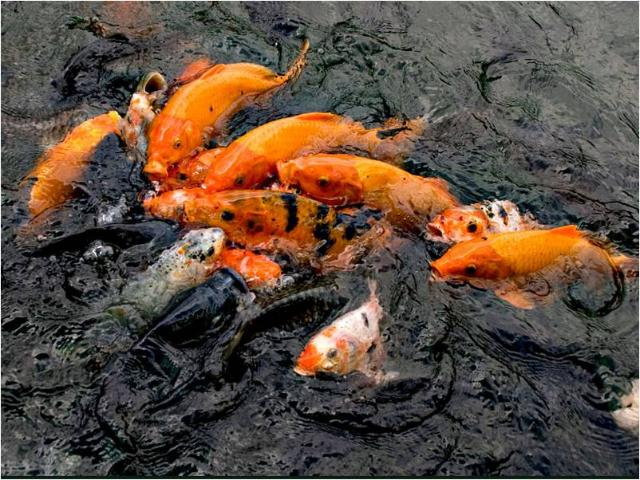Mulut: (126, 60, 178, 106), (418, 249, 452, 293), (412, 211, 454, 245), (140, 159, 176, 187)
Sirip Punggung: (196, 51, 280, 89), (544, 214, 606, 256)
